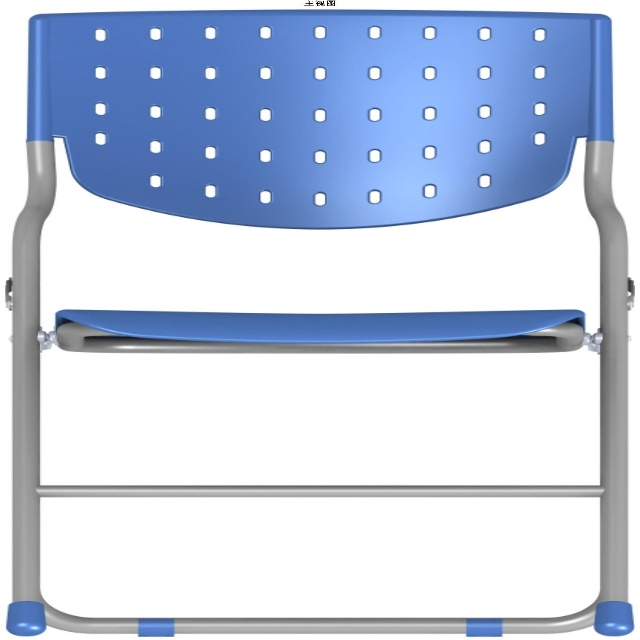obstacle: (8, 9, 630, 635)
